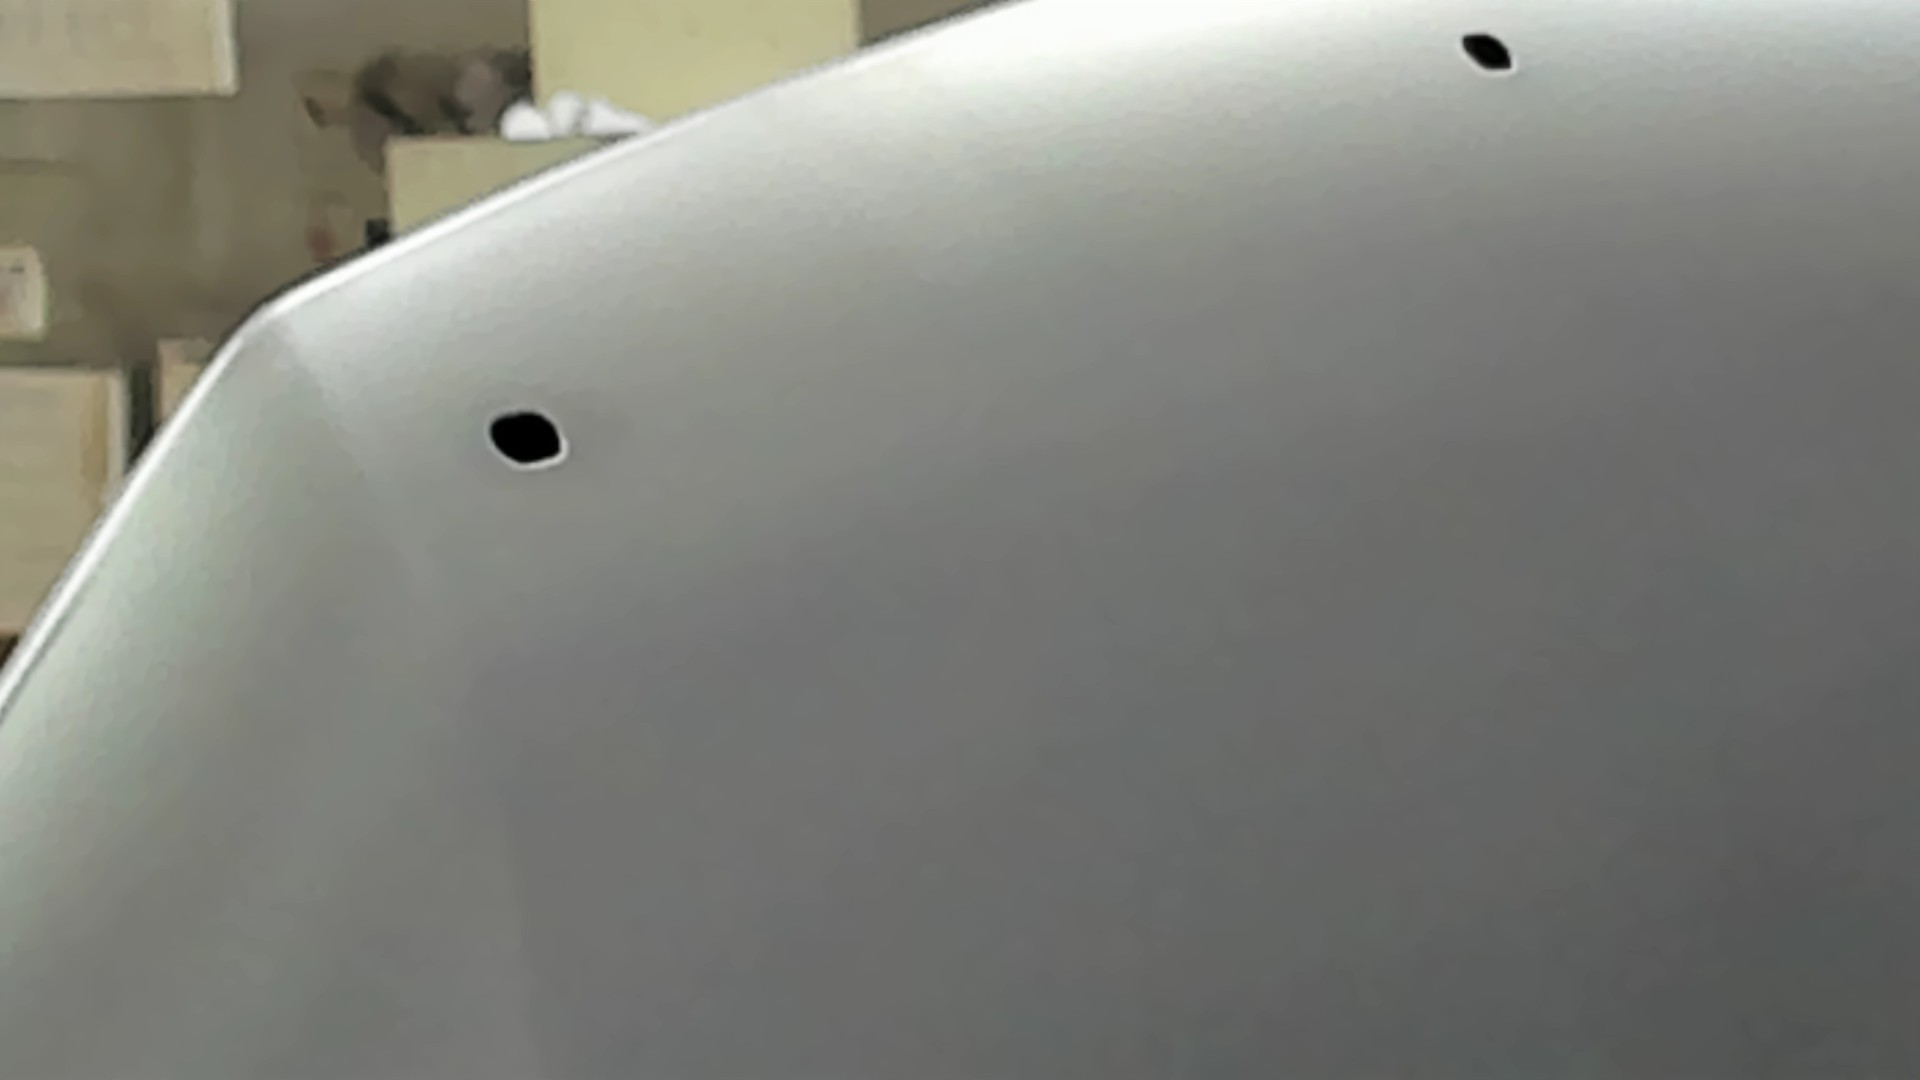amorfo: (487, 406, 574, 473), (1456, 26, 1518, 79)
capo: (756, 127, 1920, 1080)
